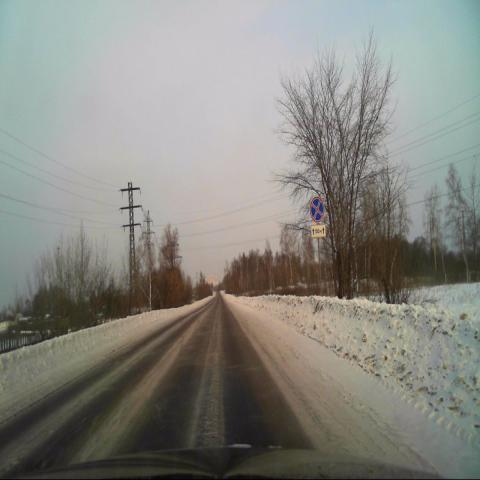3_27: (311, 196, 324, 223)
8_2_1: (312, 224, 326, 237)
